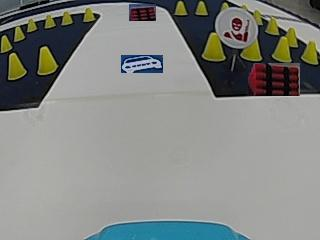evil: (214, 8, 255, 47)
